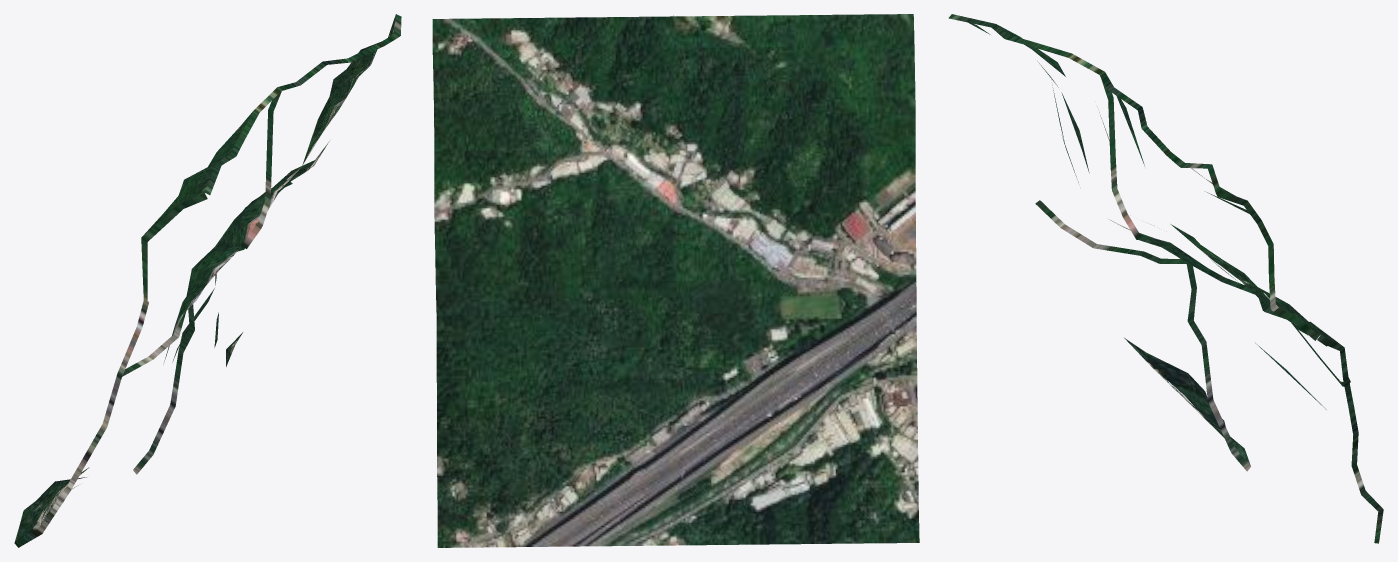
3 renders of one model, left to right at view 1: azimuth 30°, elevation 25°; view 2: azimuth 150°, elevation 25°; view 3: azimuth 270°, elevation 25°, orthographic. The views are drawn at different scales.
Bounding box in the file's own units: 1210 × 1162 × 1050.
Materials: 1 (1 with a texture image).
